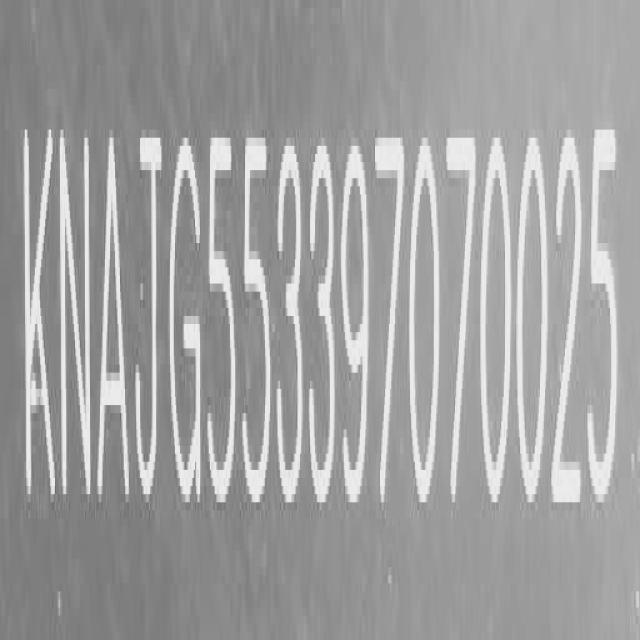0: (515, 132, 550, 525), (481, 129, 513, 510), (408, 138, 440, 510)
2: (550, 123, 586, 522)
3: (274, 141, 304, 516), (308, 138, 336, 516)
5: (585, 126, 622, 498), (240, 132, 272, 522), (205, 132, 237, 513)
7: (373, 135, 408, 516), (445, 135, 477, 525)
9: (339, 144, 369, 513)
A: (95, 132, 132, 522)
G: (167, 135, 205, 516)
J: (133, 126, 165, 516)
K: (21, 111, 59, 528)
N: (56, 123, 95, 519)
